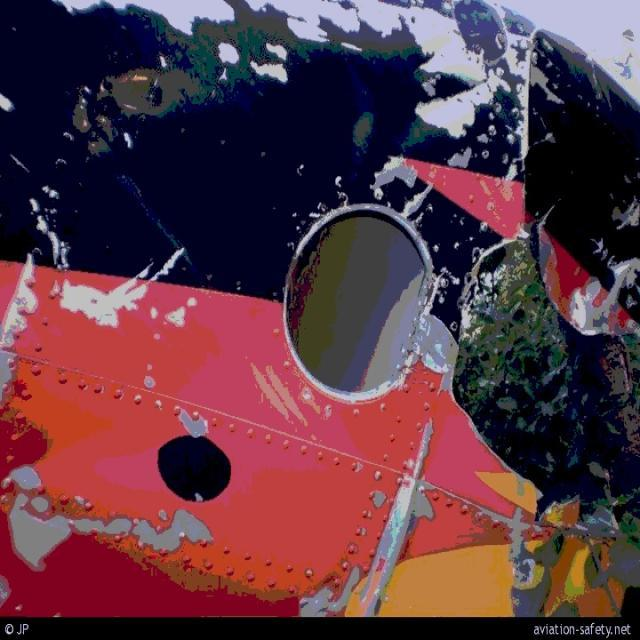dent: (51, 431, 168, 494)
